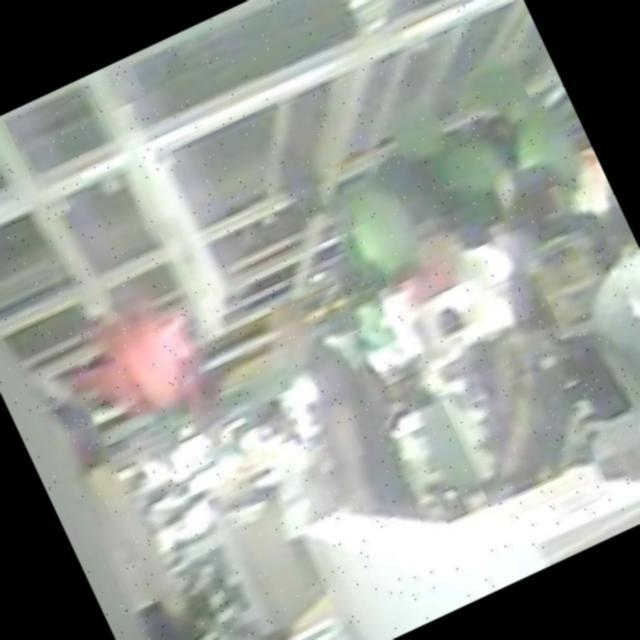person: (470, 151, 640, 443), (509, 150, 640, 514), (30, 393, 223, 640), (284, 332, 426, 530)
